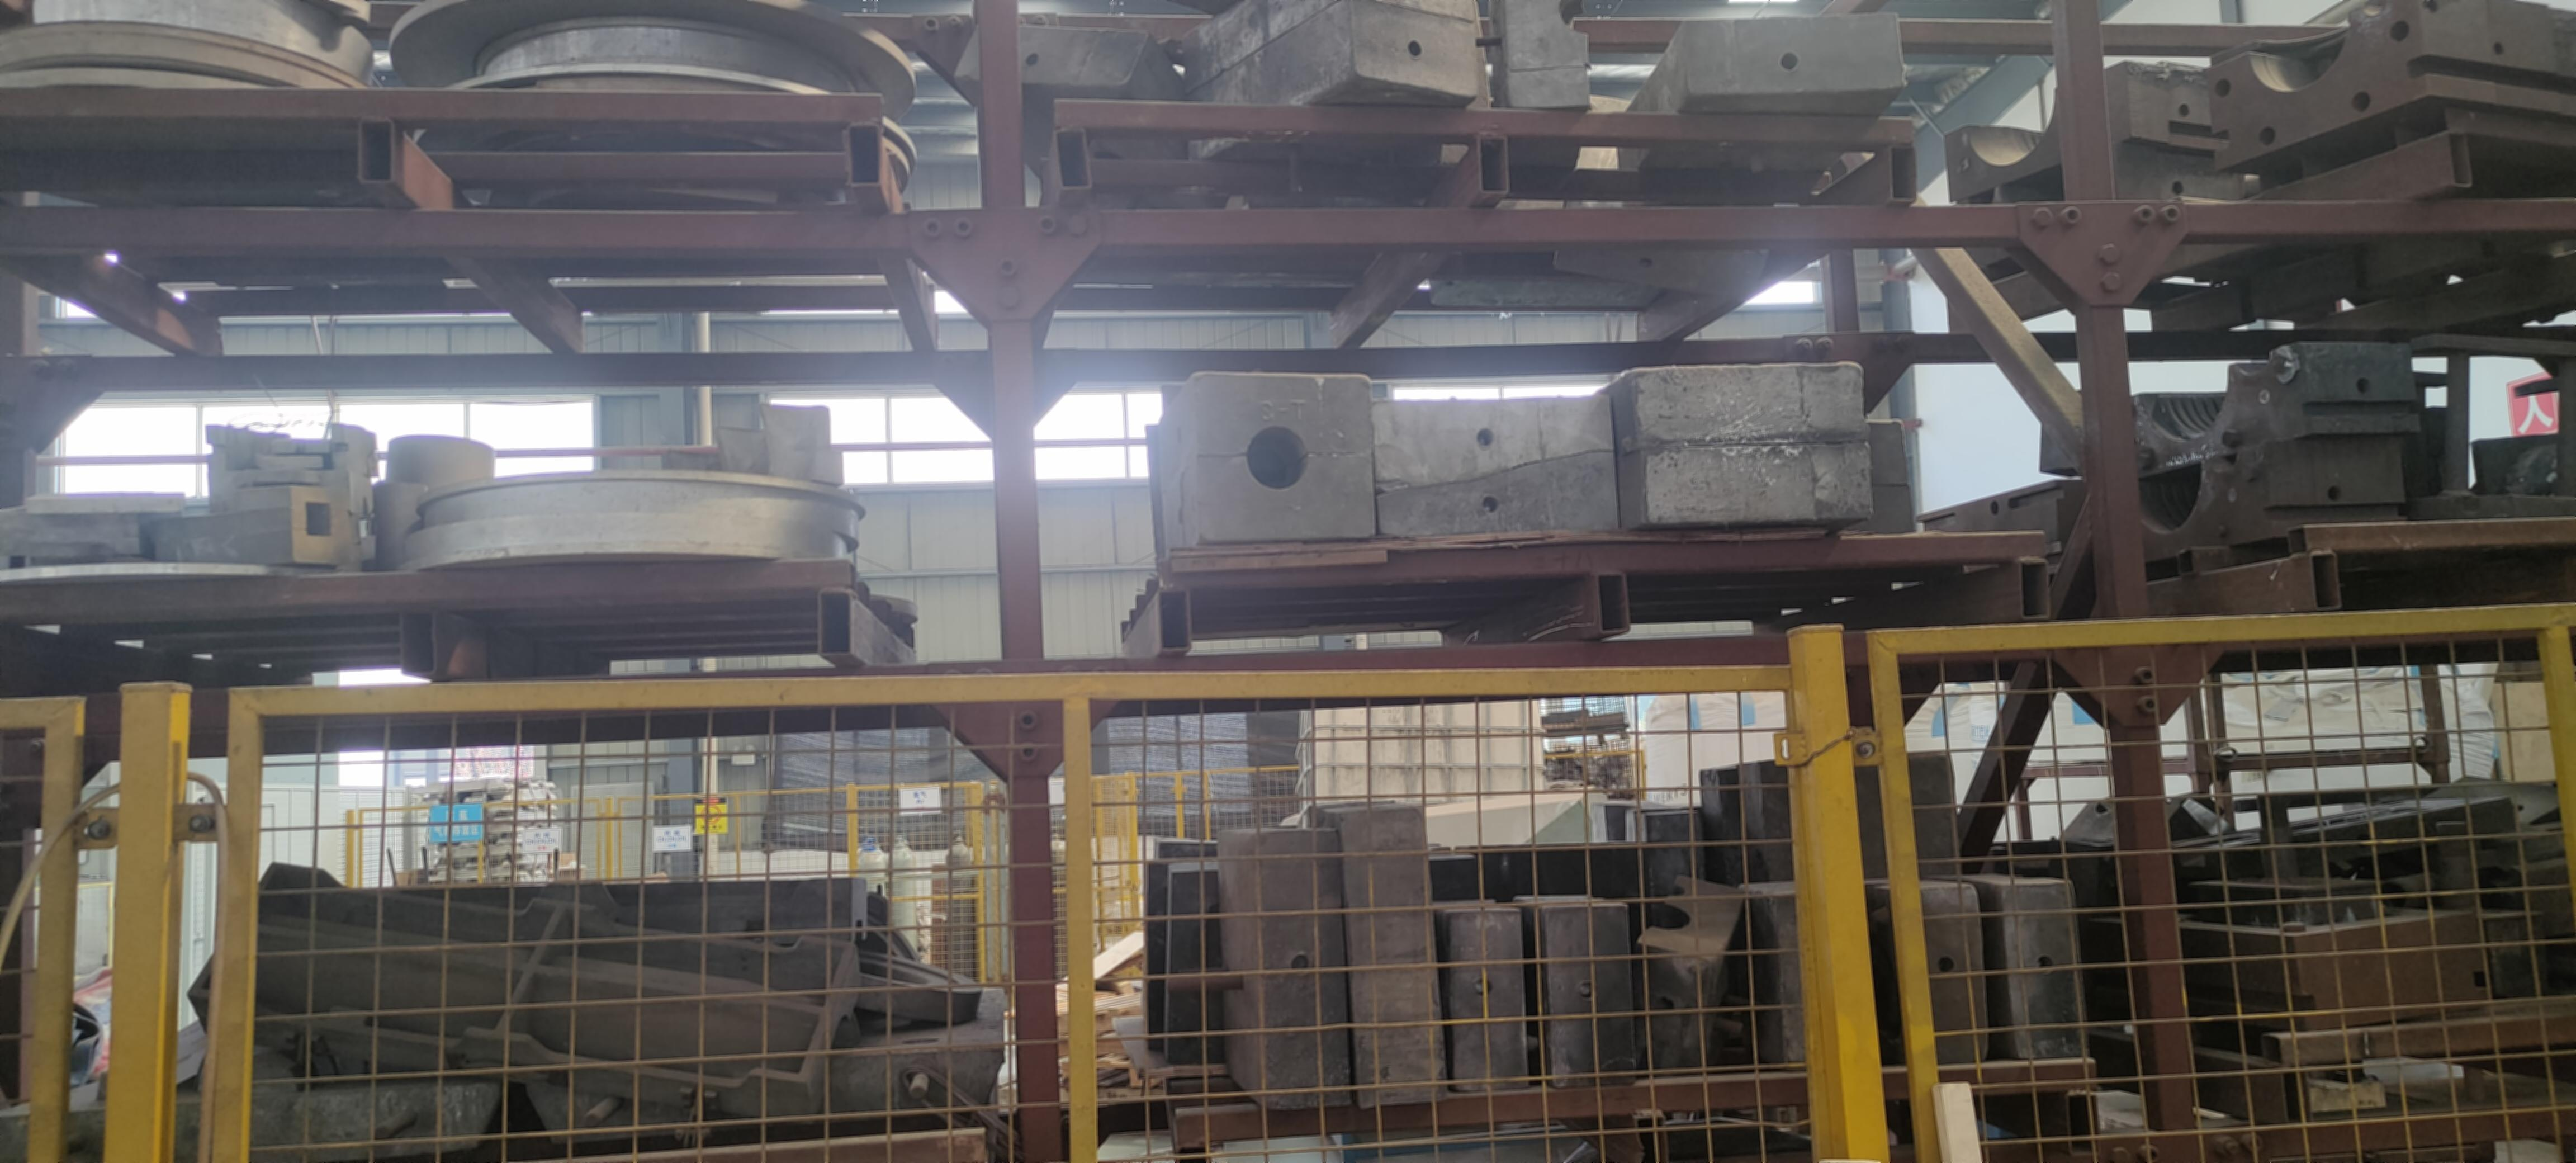pouring hole: (1242, 425, 1313, 491)
